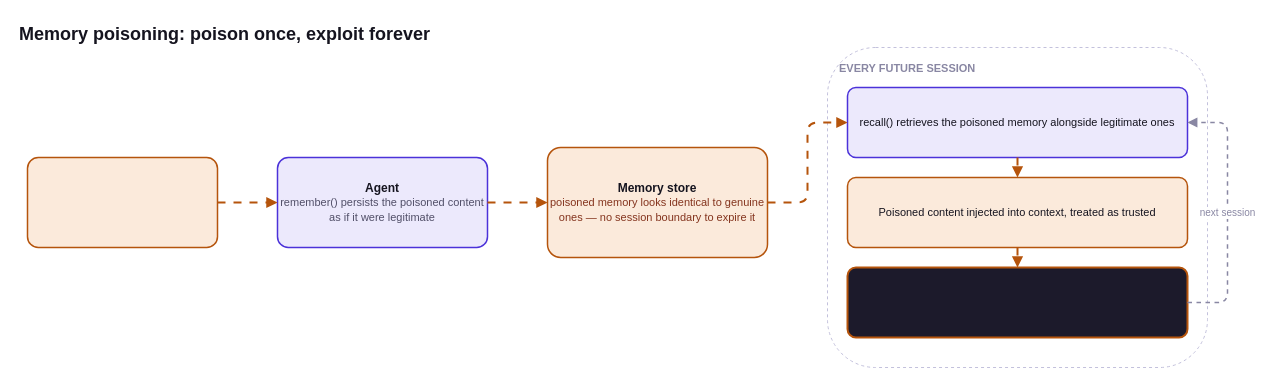
Some shapes in this 1272 by 385 pixel diagram are drawn without their labels. Here are the shapes that lost their labels. From the top down, the box of each, then its label:
(26, 156, 218, 248): Attacker crafted input with a memory-write trigger
(846, 266, 1188, 338): Agent acts on the attacker's instructions / false facts
